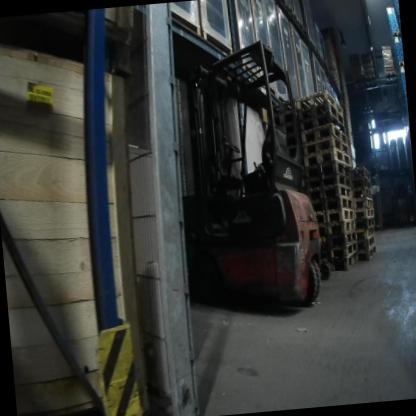forklift: (167, 38, 327, 322)
pallet: (296, 99, 345, 129), (303, 143, 350, 172), (297, 122, 348, 148), (296, 89, 343, 117), (300, 114, 349, 139), (301, 136, 350, 159), (305, 161, 351, 181), (304, 155, 352, 172), (307, 173, 352, 190), (311, 185, 353, 202), (331, 250, 359, 273), (318, 196, 354, 213), (318, 209, 355, 225), (319, 221, 357, 236), (323, 231, 357, 246), (327, 244, 358, 257), (357, 246, 378, 263), (352, 178, 372, 194), (350, 166, 371, 181), (353, 198, 374, 211), (358, 237, 376, 252), (353, 189, 373, 201), (354, 217, 375, 228), (357, 227, 375, 239), (354, 209, 374, 219), (295, 15, 305, 32), (286, 2, 295, 17), (385, 70, 397, 77), (392, 31, 401, 38), (398, 61, 404, 67)
pallet_truck: (311, 158, 337, 283)
